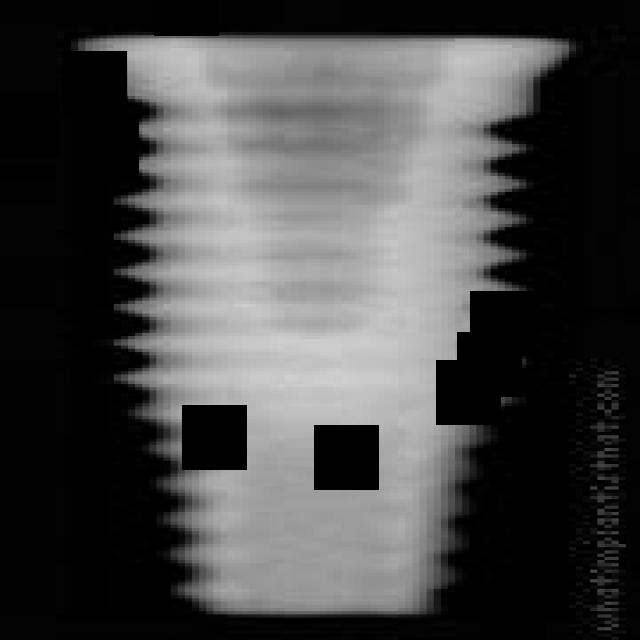Retained root: (71, 35, 583, 621)
